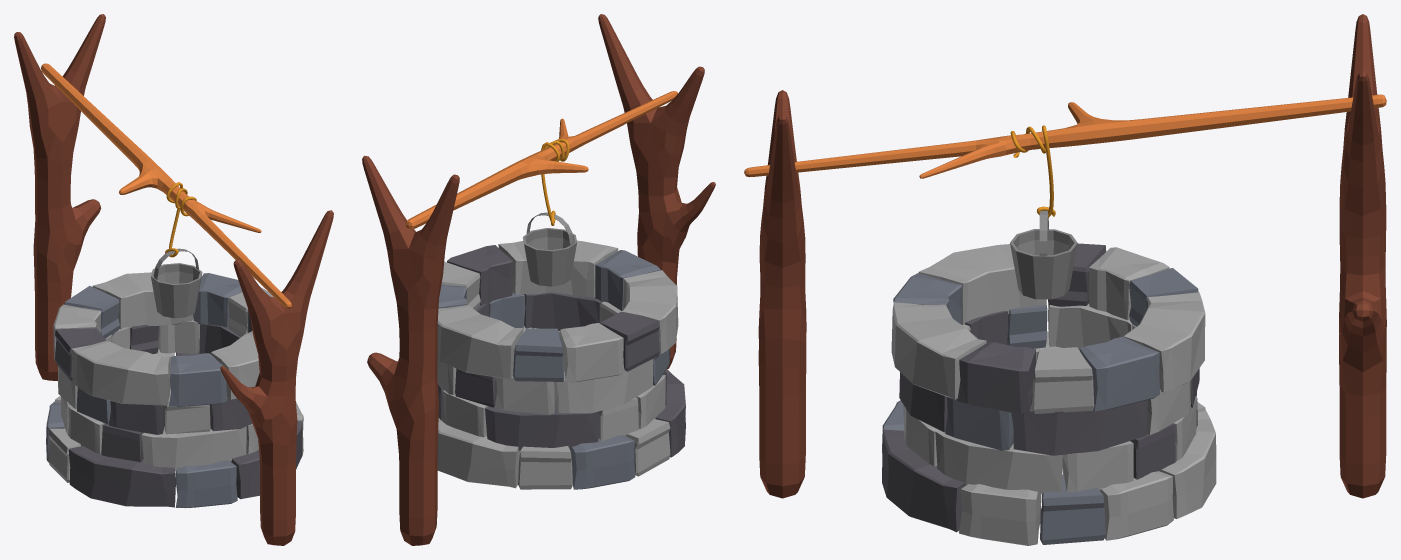
Rendered from poco.fbx.
3 renders of one model, left to right at view 1: azimuth 30°, elevation 25°; view 2: azimuth 150°, elevation 25°; view 3: azimuth 270°, elevation 25°, orthographic. The views are drawn at different scales.
Parts seen in each view (by area): view 1: poço, apoio, apoio2, apoio2.001, balde, laço; view 2: poço, apoio, apoio2, apoio2.001, balde, laço; view 3: poço, apoio, apoio2, apoio2.001, balde, laço.
Part boxes in pixels (x1,y1,x2,y2): poço: (46, 272, 303, 508); apoio: (14, 14, 105, 380); apoio2: (220, 210, 333, 545); apoio2.001: (41, 63, 291, 308); balde: (150, 248, 202, 318); laço: (165, 182, 196, 257); poço: (437, 240, 685, 489); apoio: (362, 155, 459, 545); apoio2: (598, 14, 715, 368); apoio2.001: (405, 91, 677, 229); balde: (522, 212, 577, 286); laço: (541, 138, 569, 225); poço: (882, 243, 1216, 545); apoio: (1339, 14, 1386, 498); apoio2: (758, 90, 806, 498); apoio2.001: (744, 94, 1386, 178); balde: (1010, 210, 1077, 299); laço: (1010, 125, 1055, 217).
Bounding box in the file's own units: 327 × 500 × 632.
